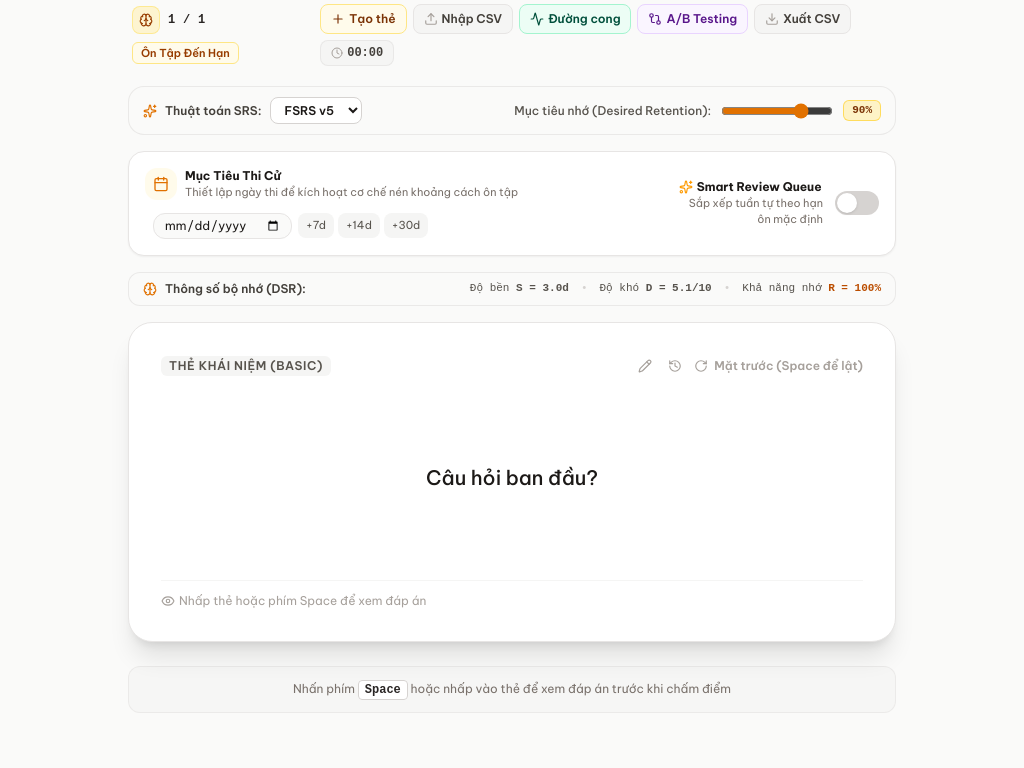
Phase F6.11 Task 3: Quick Edit Modal & In-Place Updates › FlashcardReviewStudio Quick Edit Integration & Keyboard Shortcut › opens edit modal on Ctrl+E and updates card in-place without resetting session
The width and height of the screenshot is (1024, 768).
expect the text "Câu hỏi ban đầu?" is shown: met, box [426,465,598,490]
// Press Ctrl+E
Press e
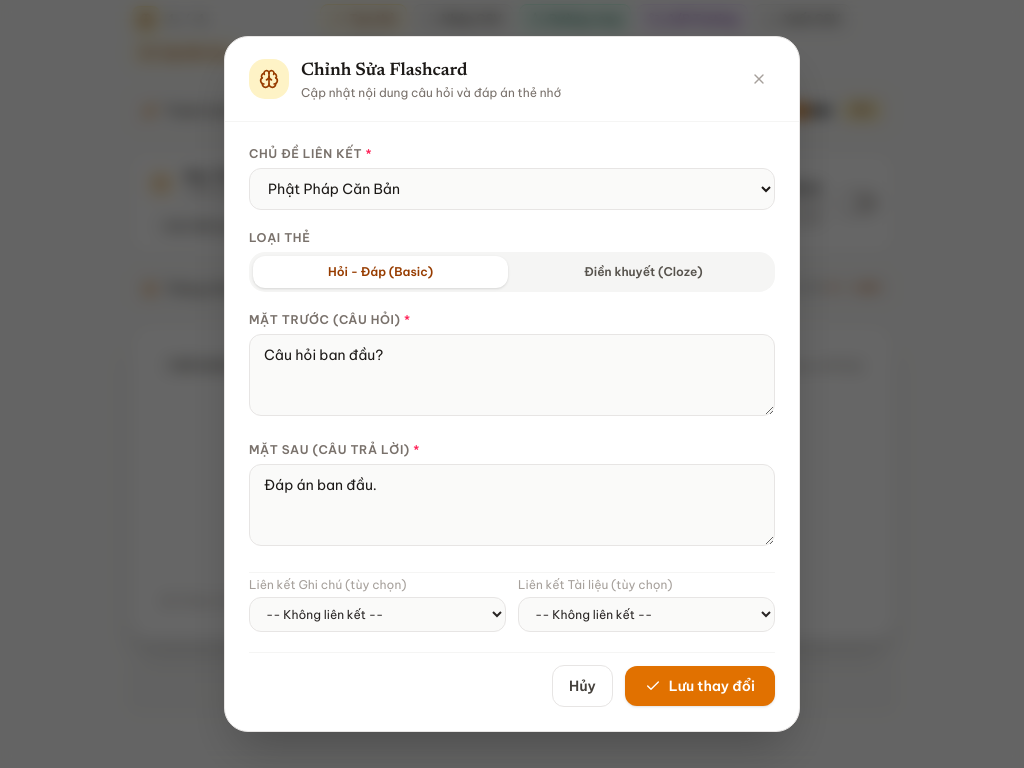
expect the heading "Chỉnh Sửa Flashcard" is shown: met, box [301,62,468,80]
// Change front content
Replace the text in the text box showing "Câu hỏi ban đầu?" below "Mặt trước (Câu hỏi)" with "Nội dung mới sau chỉnh sửa!" at (512, 375), box [249,334,775,416]
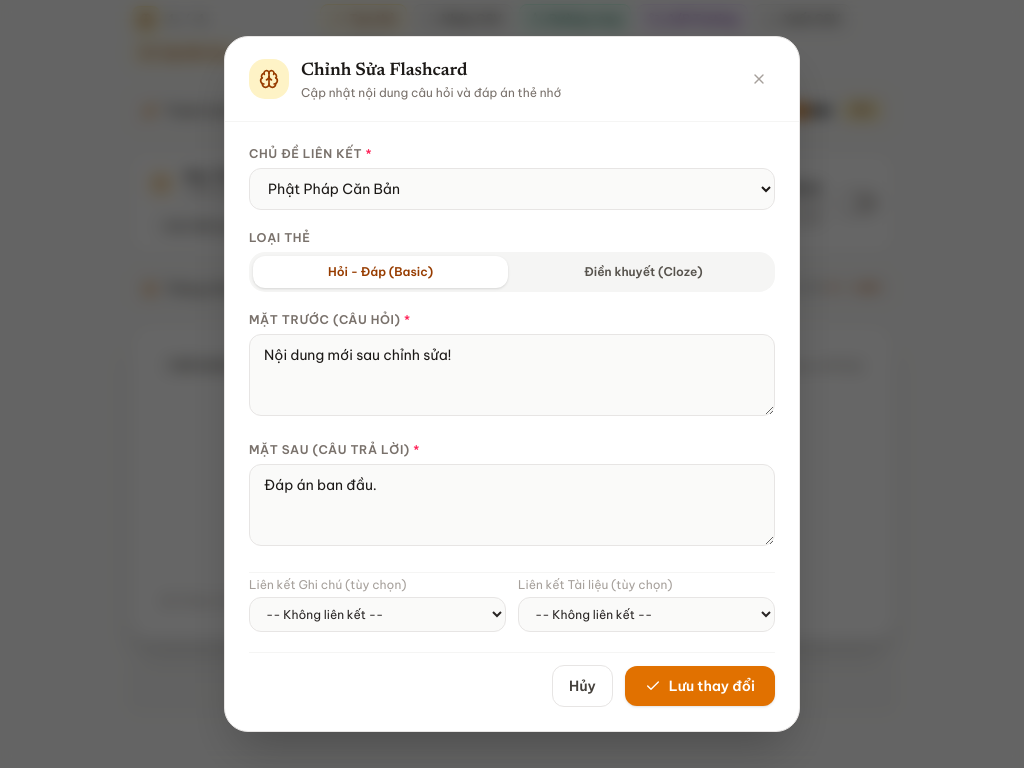
// Click submit
Click the button with test id "btn-submit-flashcard" at (700, 686), box [625,666,775,706]
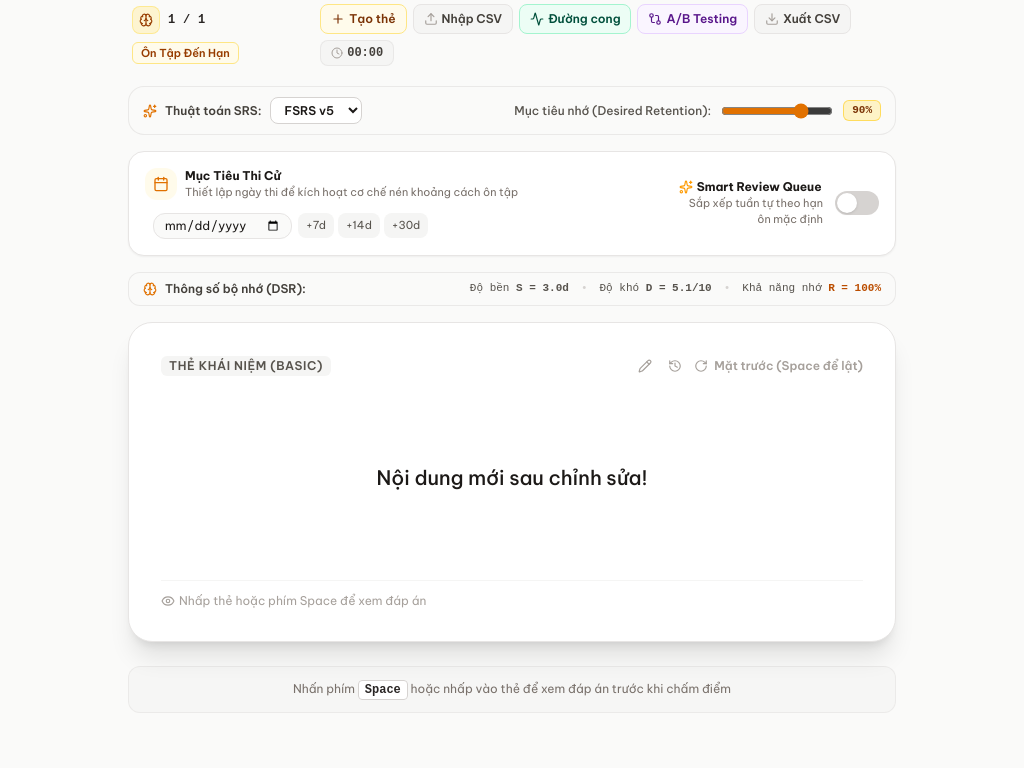
expect the text with test id "queue-progress" reads "1 / 1": met, box [168,12,206,28]
expect the text "Nội dung mới sau chỉnh sửa!" is shown: met, box [376,465,648,490]
expect the heading "Chỉnh Sửa Flashcard" is gone: met
